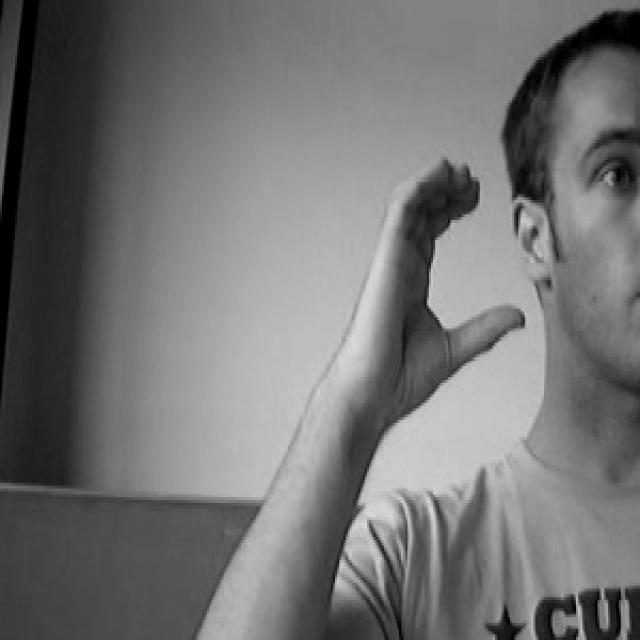C: (309, 136, 542, 428)
